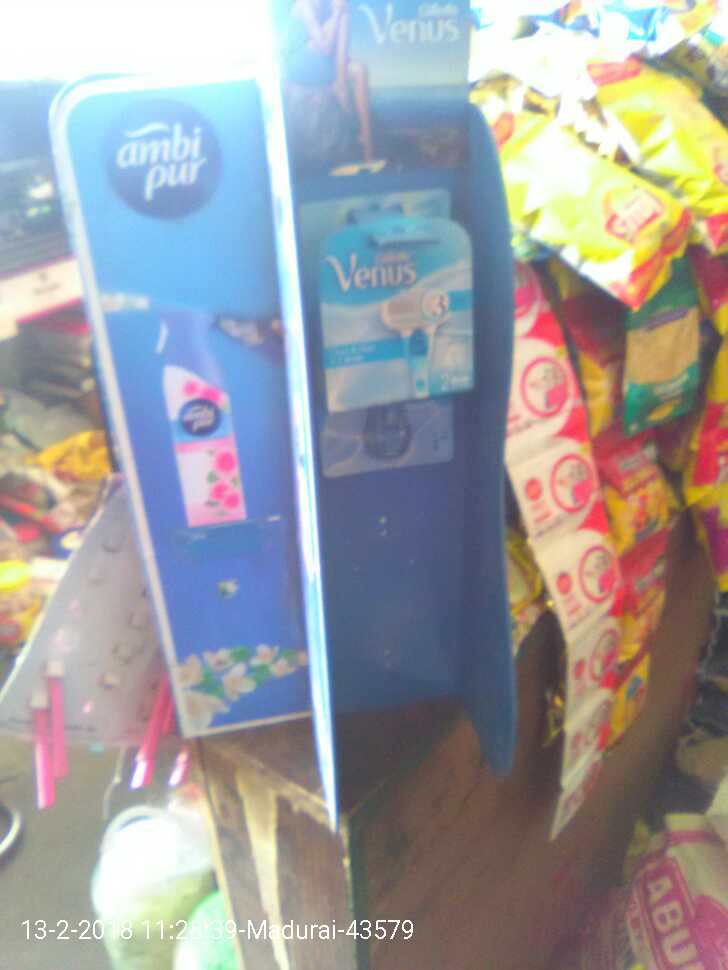venus: (306, 209, 485, 413)
